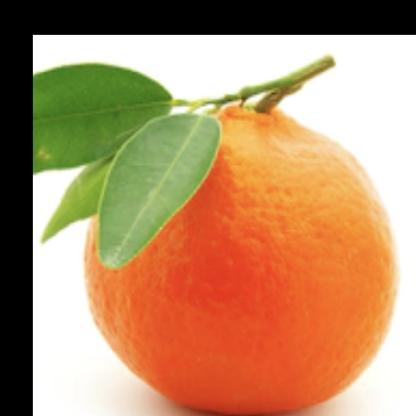fresh: (74, 83, 399, 416)
